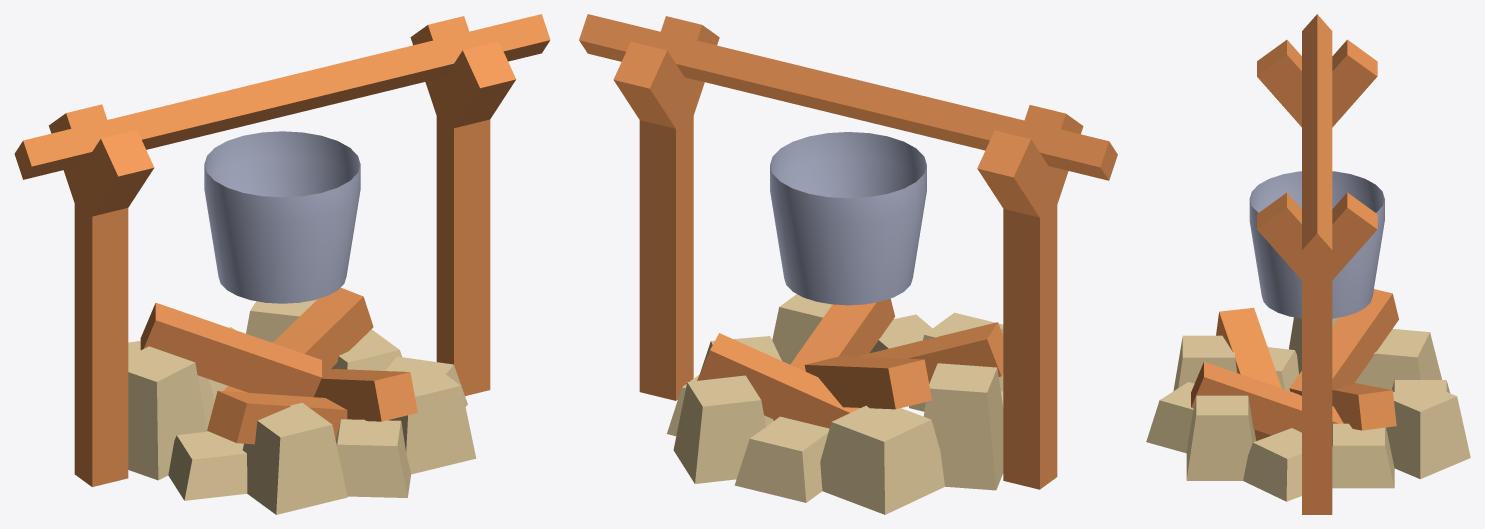
Rendered from campfire.fbx.
The picture shows the model from 3 angles, left to right: view 1: azimuth 30°, elevation 25°; view 2: azimuth 150°, elevation 25°; view 3: azimuth 270°, elevation 25°; orthographic projection. The views are drawn at different scales.
Visible parts, largest first — view 1: campfire, rocks, bucket, wood; view 2: campfire, rocks, bucket, wood; view 3: rocks, campfire, wood, bucket.
Boxes of the visible parts, left/top/right/bottom form: campfire: left=14, top=14, right=550, bottom=486; rocks: left=128, top=299, right=476, bottom=514; bucket: left=204, top=131, right=360, bottom=303; wood: left=140, top=287, right=417, bottom=444; campfire: left=579, top=14, right=1117, bottom=489; rocks: left=667, top=294, right=1003, bottom=514; bucket: left=770, top=132, right=926, bottom=305; wood: left=697, top=298, right=1003, bottom=428; rocks: left=1146, top=317, right=1470, bottom=501; campfire: left=1257, top=14, right=1377, bottom=514; wood: left=1191, top=289, right=1398, bottom=440; bucket: left=1249, top=171, right=1384, bottom=318.
Bounding box in the file's own units: 4.3 × 2.81 × 2.69.
